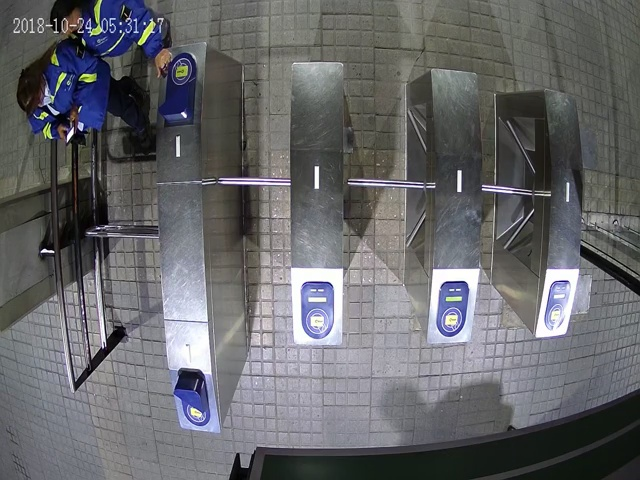Chaleco_azul: (14, 37, 150, 147), (51, 1, 172, 74)
